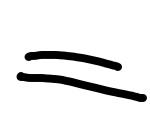eqv: (11, 47, 149, 103)
